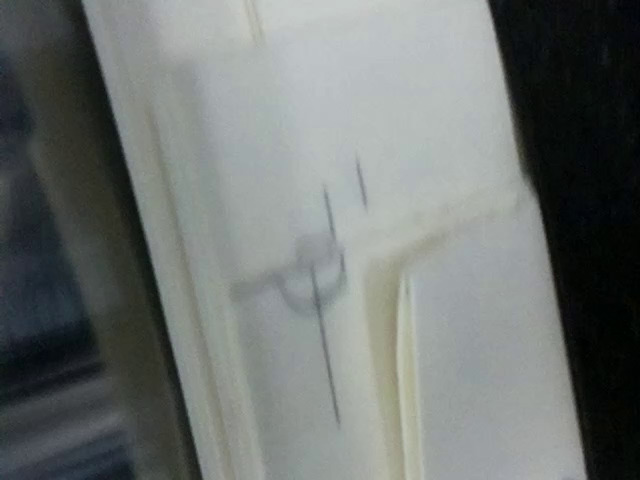not_sure: (229, 170, 354, 313)
